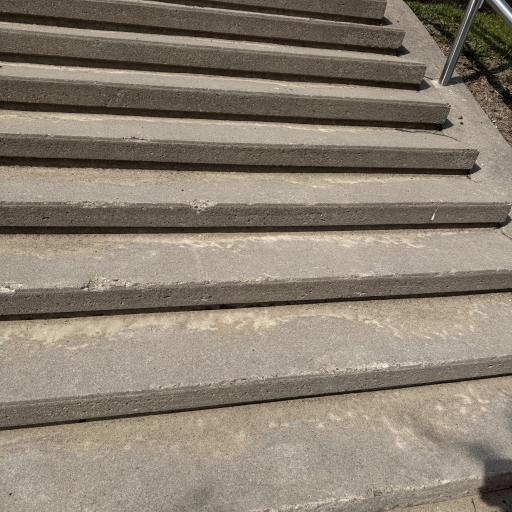Stairs: (0, 0, 512, 512), (1, 376, 512, 512), (0, 293, 512, 428), (0, 221, 512, 315), (0, 63, 449, 130), (0, 22, 426, 89), (4, 0, 405, 54)
